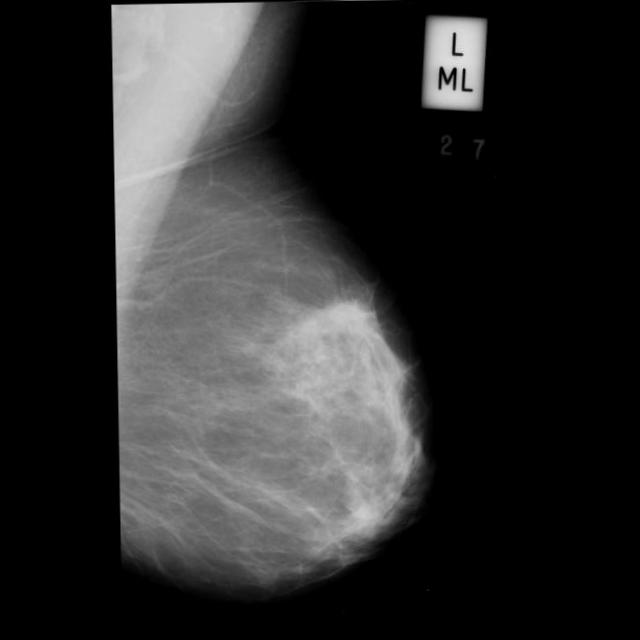ASYM: (330, 298, 368, 335)
